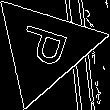P_E: (14, 23, 76, 74)
